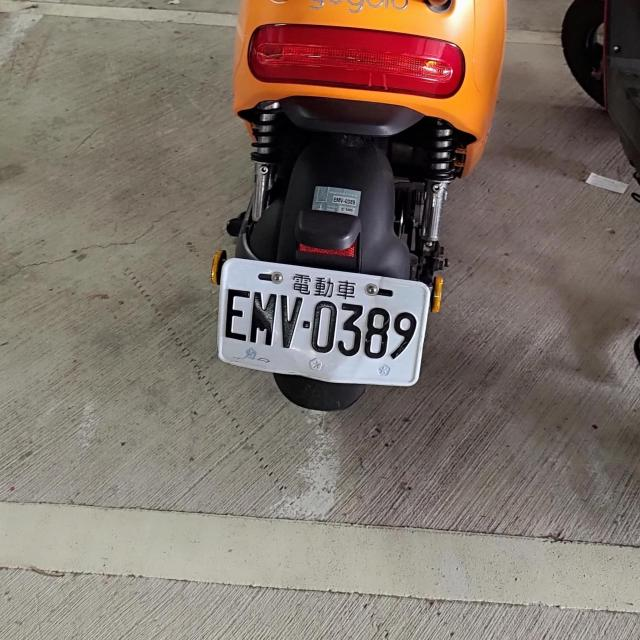W: (210, 254, 432, 391)
